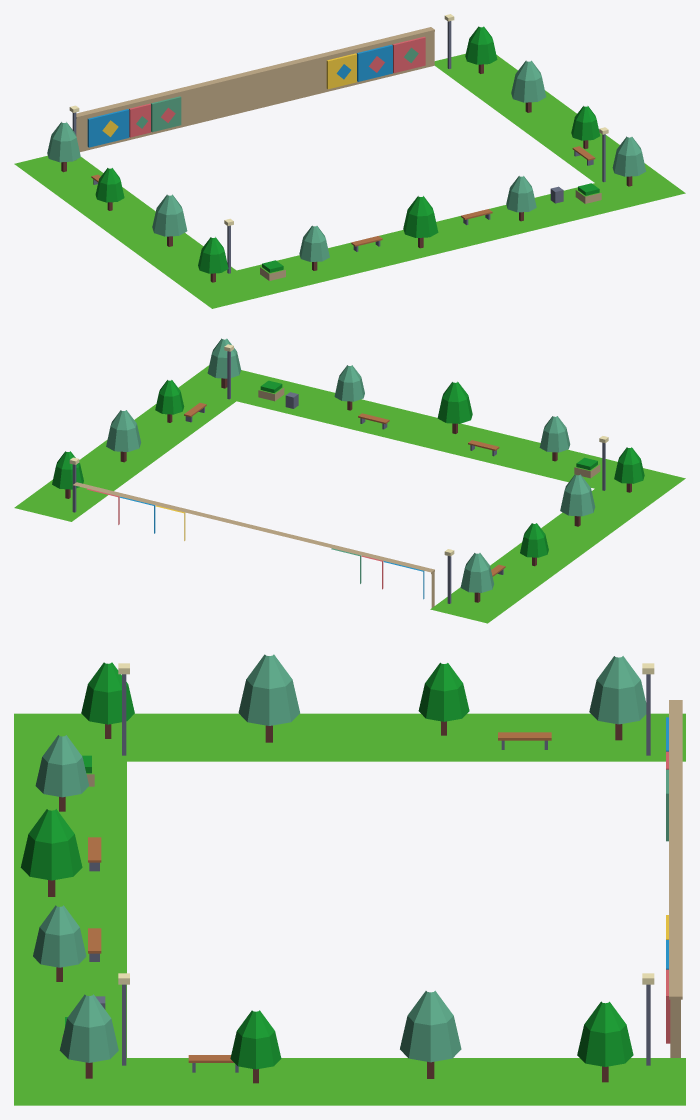
File: yard.glb
The picture shows the model from 3 angles, top to bottom: view 1: azimuth 30°, elevation 25°; view 2: azimuth 150°, elevation 25°; view 3: azimuth 270°, elevation 25°; orthographic projection. The views are drawn at different scales.
Visible parts, largest first — view 1: yard; view 2: yard; view 3: yard.
Part boxes in pixels (x1,y1,x2,y2): yard: (14,14,685,308); yard: (14,338,685,623); yard: (14,654,685,1105).
Size of the model in its own units: 34.5 by 3.65 by 25.
